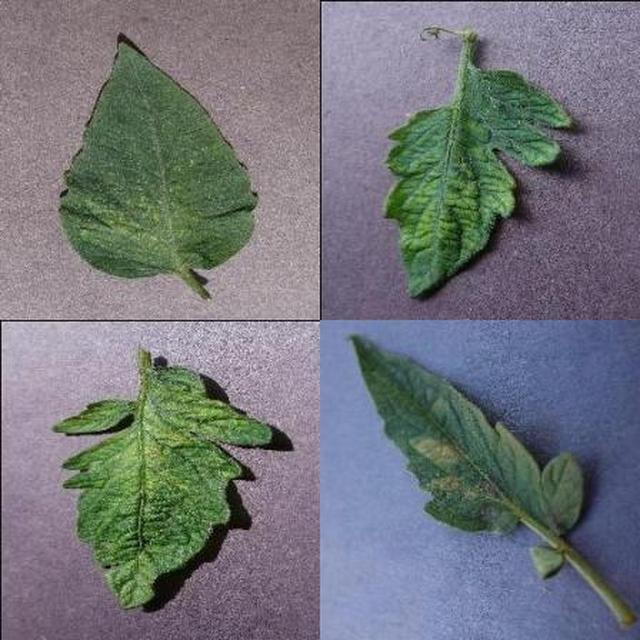Spider Mites Leaf: (226, 229, 640, 640)
